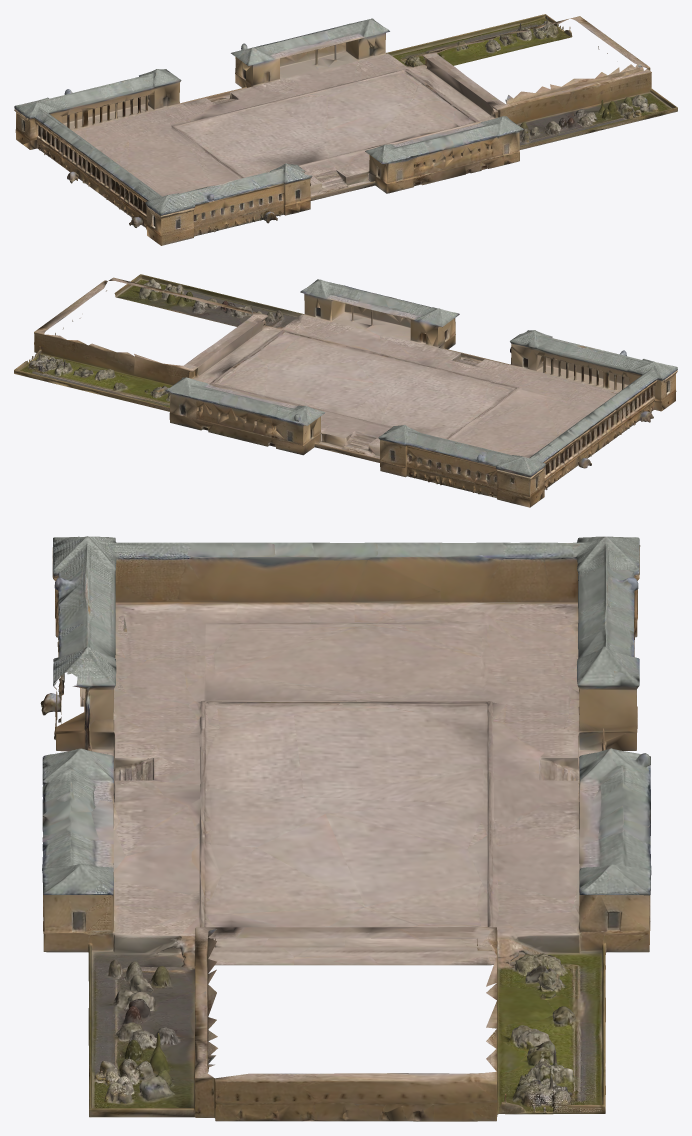
The model's file is anitkabir.glb.
3 renders of one model, top to bottom at view 1: azimuth 30°, elevation 25°; view 2: azimuth 150°, elevation 25°; view 3: azimuth 270°, elevation 25°, orthographic. The views are drawn at different scales.
Bounding box in the file's own units: 1.89 × 0.1583 × 0.9378.
Materials: 1 (1 with a texture image).
